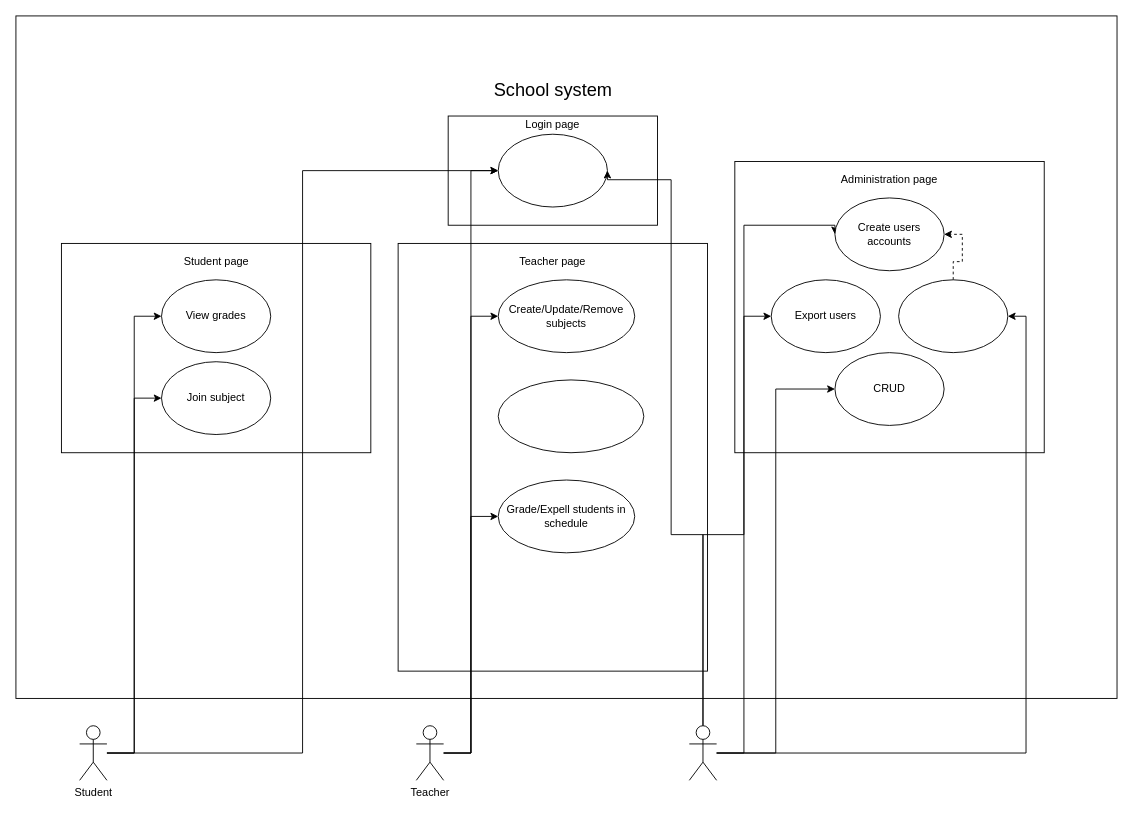
This 1133x815 diagram has some shape labels left out. The centre of each missing label's shape, as x and y in pixels:
"Administrator" belongs at point (702, 752).
"Create/Remove/View schedules" belongs at point (570, 416).
"Import users" belongs at point (953, 316).
"Log in" belongs at point (552, 170).
